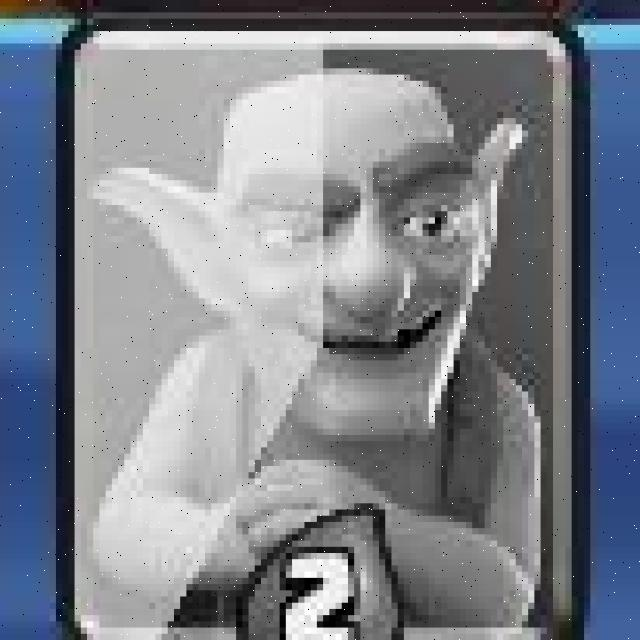Goblins: (57, 8, 587, 640)
